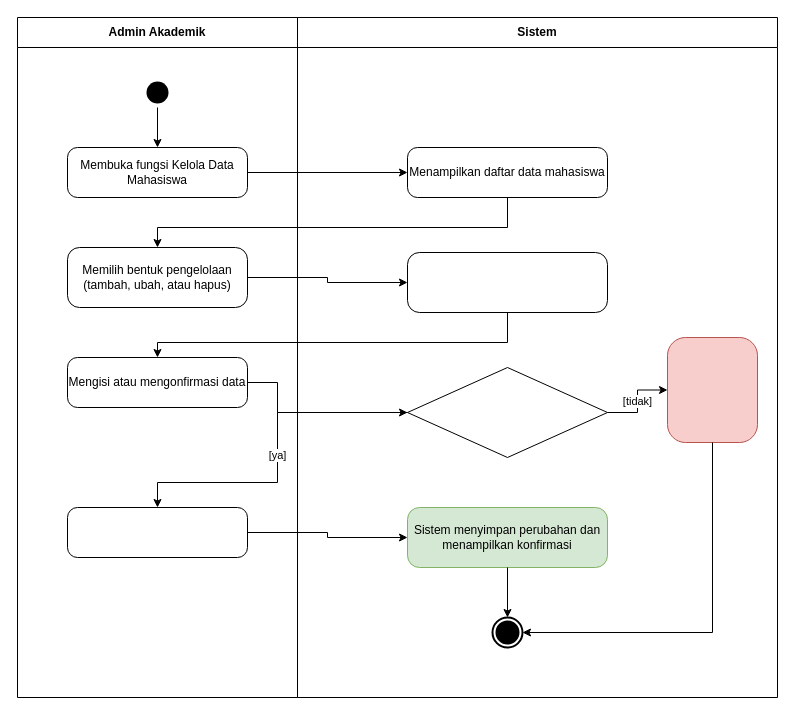
Image size: 795x715. Some labels were removed from this diagram. The box of each missing label's shape, as (x1, y1, x2, y2) in pixels:
Data lengkap dan sah?: (406, 366, 608, 458)
Menampilkan formulir sesuai bentuk pengelolaan yang dipilih: (406, 252, 608, 312)
Menolak penyimpanan dan menampilkan pesan kesalahan data: (666, 336, 758, 442)
Menyimpan perubahan: (66, 506, 248, 558)
